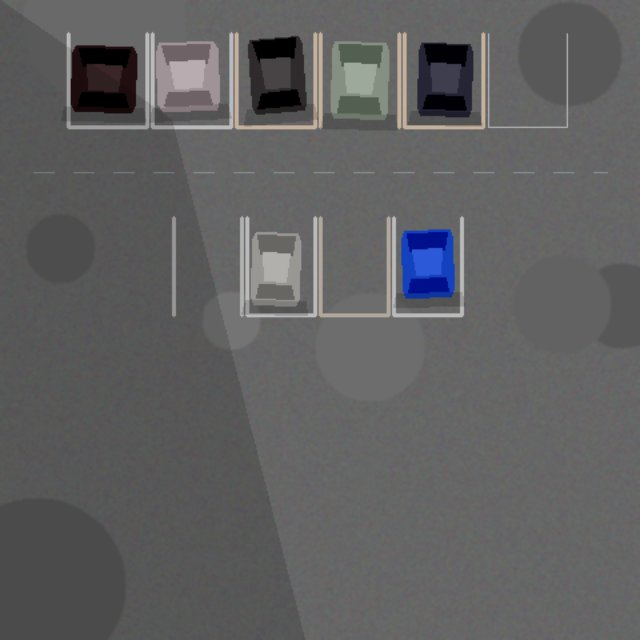space-empty: (488, 33, 567, 127), (173, 217, 241, 315), (320, 217, 388, 315)
space-occupied: (68, 33, 147, 127), (152, 33, 231, 127), (236, 33, 315, 127), (320, 33, 399, 127), (404, 33, 483, 127), (247, 217, 315, 315), (393, 217, 461, 315)
